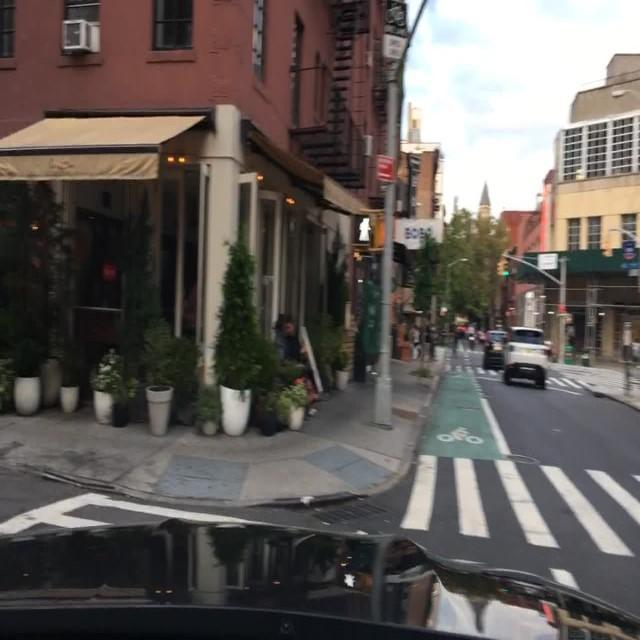normal: (502, 328, 552, 372), (504, 359, 551, 387), (483, 330, 509, 369)
